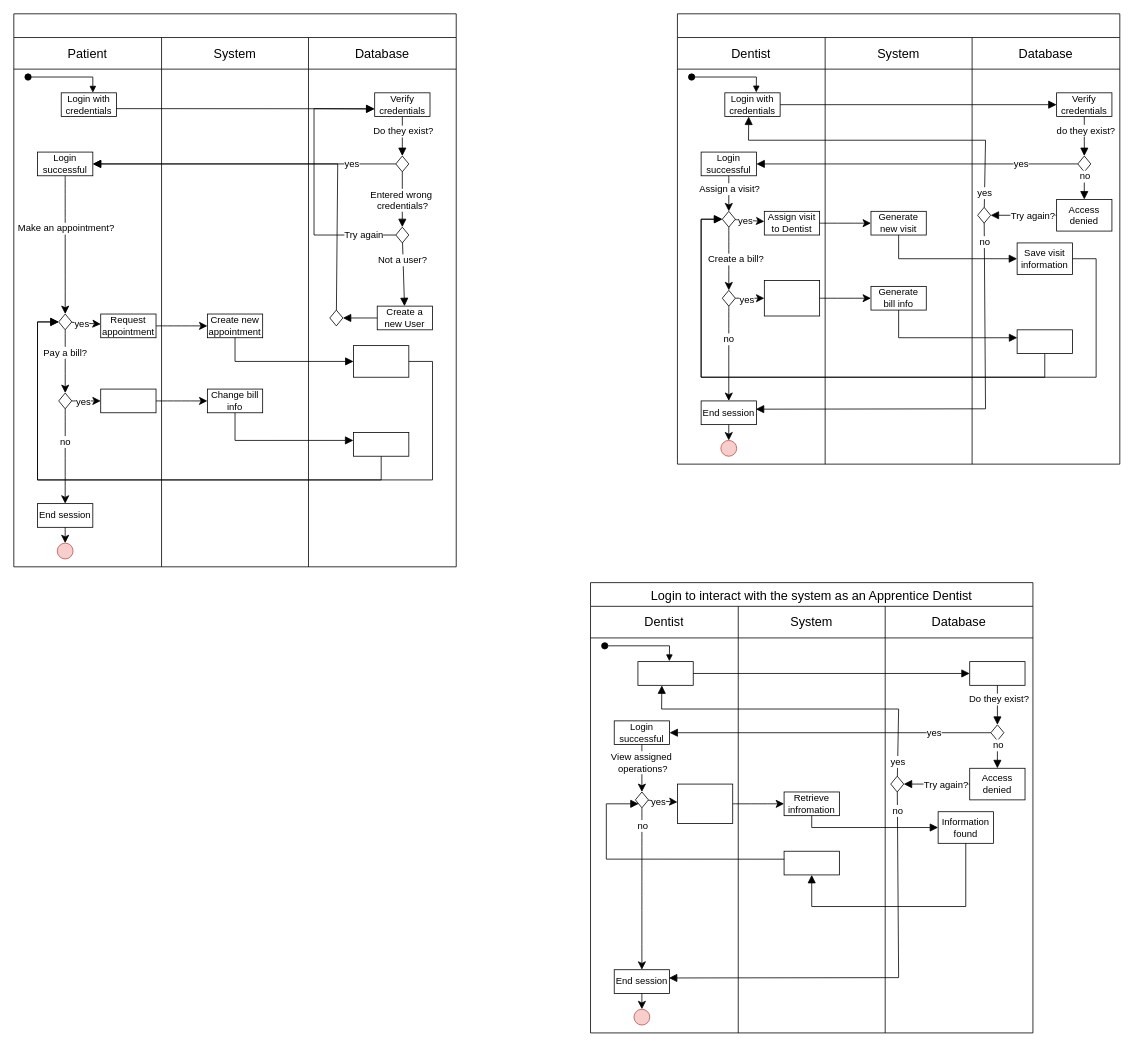
Image size: 1134x1047. Some labels were removed from this diagram. The shapes that lost their labels are listed below. From the top down, each one's box as (x1, y1, x2, y2) in pixels, then its label:
(677, 13, 1120, 464): Login to interact with the system as a Dentist
(13, 13, 456, 567): Login to interact with the system as a Patient
(764, 280, 820, 316): Create a new bill after a visit
(353, 345, 409, 377): Save appointment information
(1016, 329, 1072, 354): New bill saved
(100, 388, 156, 413): Request to pay
(353, 432, 409, 456): Update bill info to paid
(637, 661, 693, 685): log in with credentials
(969, 661, 1025, 685): verifies credentials
(677, 783, 733, 824): View assigned operations
(783, 850, 839, 875): Display infromation
